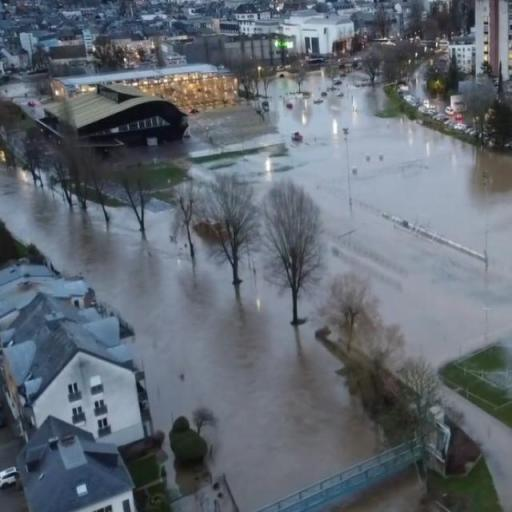flood: (0, 73, 512, 512), (446, 392, 512, 512)
house: (0, 292, 146, 452), (14, 421, 140, 512), (58, 84, 180, 154), (300, 14, 353, 60), (448, 40, 476, 76), (232, 4, 258, 34)
